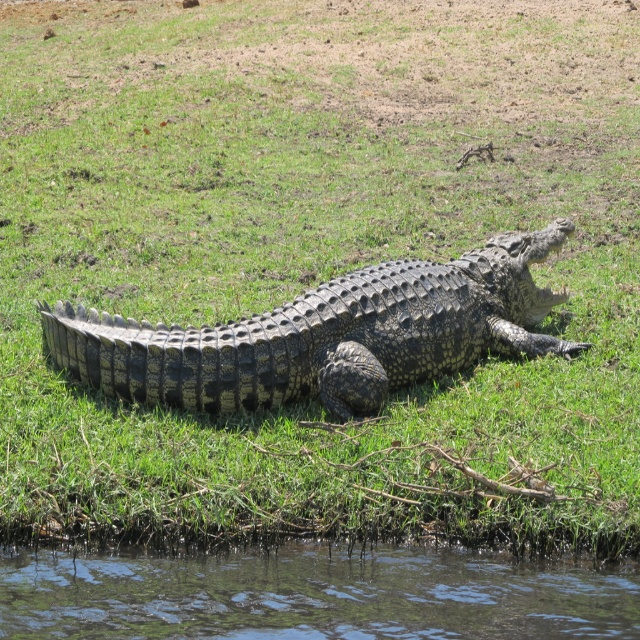Crocodile: (35, 216, 597, 423)
